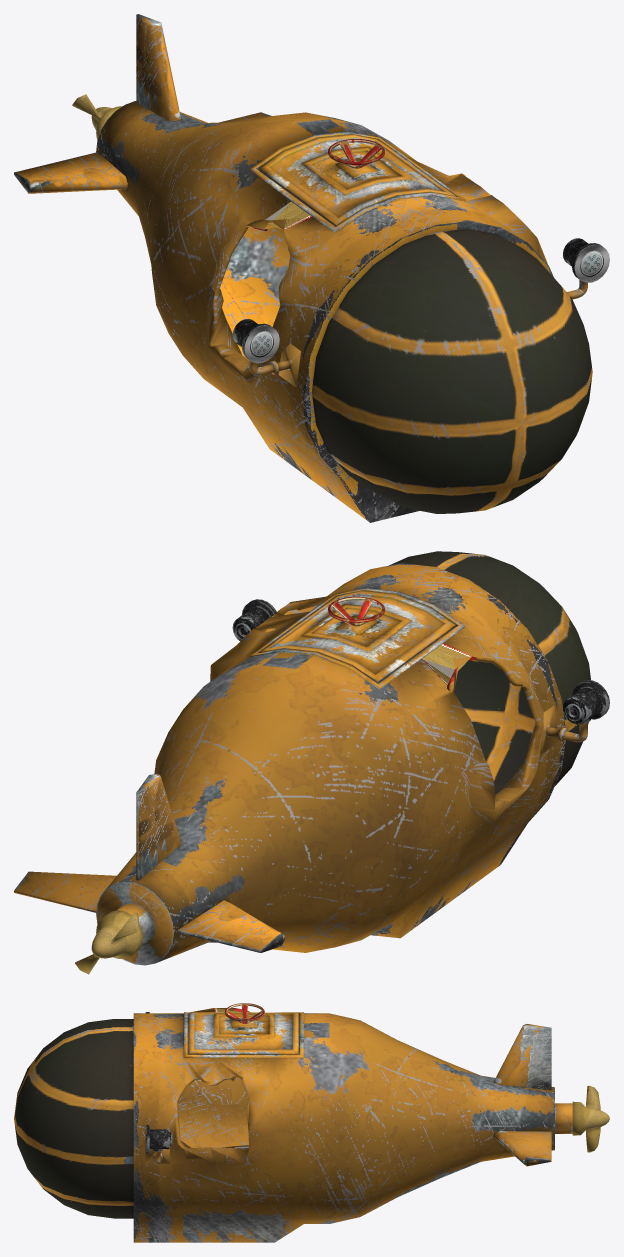
File: onderzeeer kapot aan de zijkant kan naar binnen zwemmen.fbx
3 views of the same model, one above another, from view 1: azimuth 30°, elevation 25°; view 2: azimuth 150°, elevation 25°; view 3: azimuth 270°, elevation 25° (orthographic). The views are drawn at different scales.
Visible parts, largest first — view 1: Onderzeeer met gat in de zeikant; view 2: Onderzeeer met gat in de zeikant; view 3: Onderzeeer met gat in de zeikant.
Boxes of the visible parts, x1,y1,x2,y2 form: Onderzeeer met gat in de zeikant: (14,14,609,522); Onderzeeer met gat in de zeikant: (14,551,609,974); Onderzeeer met gat in de zeikant: (14,1003,609,1242).
Size of the model in its own units: 2818 by 2198 by 5680.
